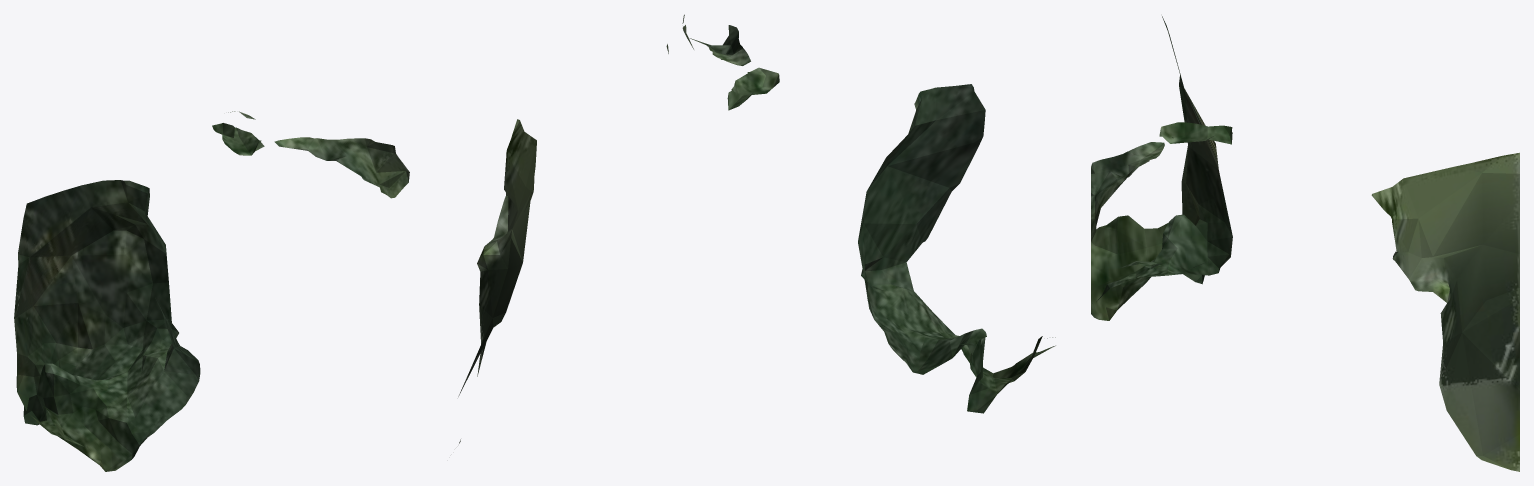
3 renders of one model, left to right at view 1: azimuth 30°, elevation 25°; view 2: azimuth 150°, elevation 25°; view 3: azimuth 270°, elevation 25°, orthographic. The views are drawn at different scales.
Bounding box in the file's own units: 5.9 × 4.24 × 5.9.
2 materials, 2 textured.
